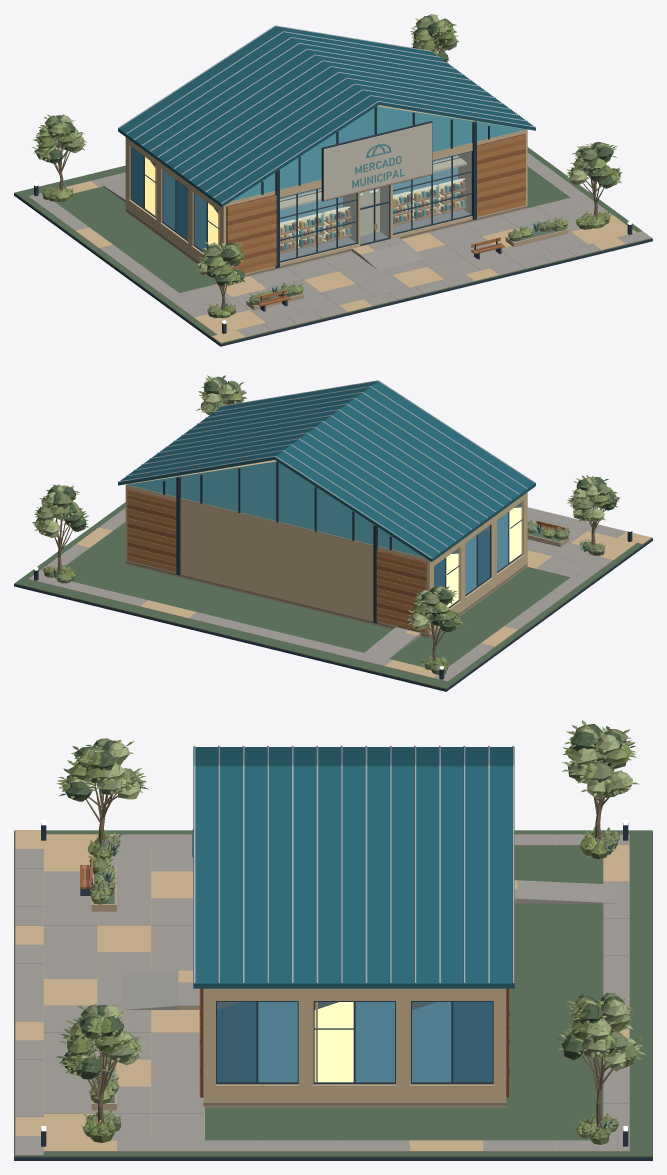
File: mercado_municipal.fbx
The picture shows the model from 3 angles, top to bottom: view 1: azimuth 30°, elevation 25°; view 2: azimuth 150°, elevation 25°; view 3: azimuth 270°, elevation 25°; orthographic projection. The views are drawn at different scales.
Parts seen in each view (by area): view 1: Marquesinas, Senderos y explanadas, Marcos y lamas, Islas de plantacion, Muros, Cristales transparentes, Acristalamiento opaco, Remates minerales, Senaletica, Equipamiento de fachada, Piedra y bordillos, Setos y herbaceas (+6 smaller); view 2: Marquesinas, Islas de plantacion, Muros, Acristalamiento opaco, Senderos y explanadas, Marcos y lamas, Remates minerales, Arbol 210, Piedra y bordillos, Arbol 209, Arbol 211, Setos y herbaceas (+1 smaller); view 3: Marquesinas, Senderos y explanadas, Islas de plantacion, Acristalamiento opaco, Muros, Marcos y lamas, Arbol 210, Setos y herbaceas, Arbol 212, Arbol 209, Arbol 211, Piedra y bordillos (+2 smaller).
Part boxes in pixels (<box>): Marquesinas: <box>118,26,535,206</box>; Senderos y explanadas: <box>28,153,651,343</box>; Marcos y lamas: <box>118,25,535,268</box>; Islas de plantacion: <box>14,147,652,344</box>; Muros: <box>125,131,527,274</box>; Cristales transparentes: <box>280,152,471,260</box>; Acristalamiento opaco: <box>131,106,526,251</box>; Remates minerales: <box>125,134,527,277</box>; Senaletica: <box>321,121,432,201</box>; Equipamiento de fachada: <box>280,156,466,253</box>; Piedra y bordillos: <box>14,193,652,346</box>; Setos y herbaceas: <box>42,181,610,318</box>; Marquesinas: <box>118,381,535,561</box>; Islas de plantacion: <box>14,502,652,689</box>; Muros: <box>125,486,527,634</box>; Acristalamiento opaco: <box>127,461,521,607</box>; Senderos y explanadas: <box>28,507,651,681</box>; Marcos y lamas: <box>118,380,535,632</box>; Remates minerales: <box>125,489,527,638</box>; Arbol 210: <box>32,484,89,572</box>; Piedra y bordillos: <box>14,534,652,691</box>; Arbol 209: <box>406,585,463,660</box>; Arbol 211: <box>566,475,619,544</box>; Setos y herbaceas: <box>42,520,605,674</box>; Marquesinas: <box>193,747,514,988</box>; Senderos y explanadas: <box>15,830,629,1155</box>; Islas de plantacion: <box>14,830,652,1157</box>; Acristalamiento opaco: <box>216,1002,492,1082</box>; Muros: <box>203,988,506,1102</box>; Marcos y lamas: <box>193,745,514,1084</box>; Arbol 210: <box>557,993,645,1129</box>; Setos y herbaceas: <box>81,826,621,1144</box>; Arbol 212: <box>55,1004,145,1123</box>; Arbol 209: <box>562,720,639,841</box>; Arbol 211: <box>57,738,148,845</box>; Piedra y bordillos: <box>14,831,652,1160</box>.
Size of the model in its own units: 29 by 9.63 by 24.
